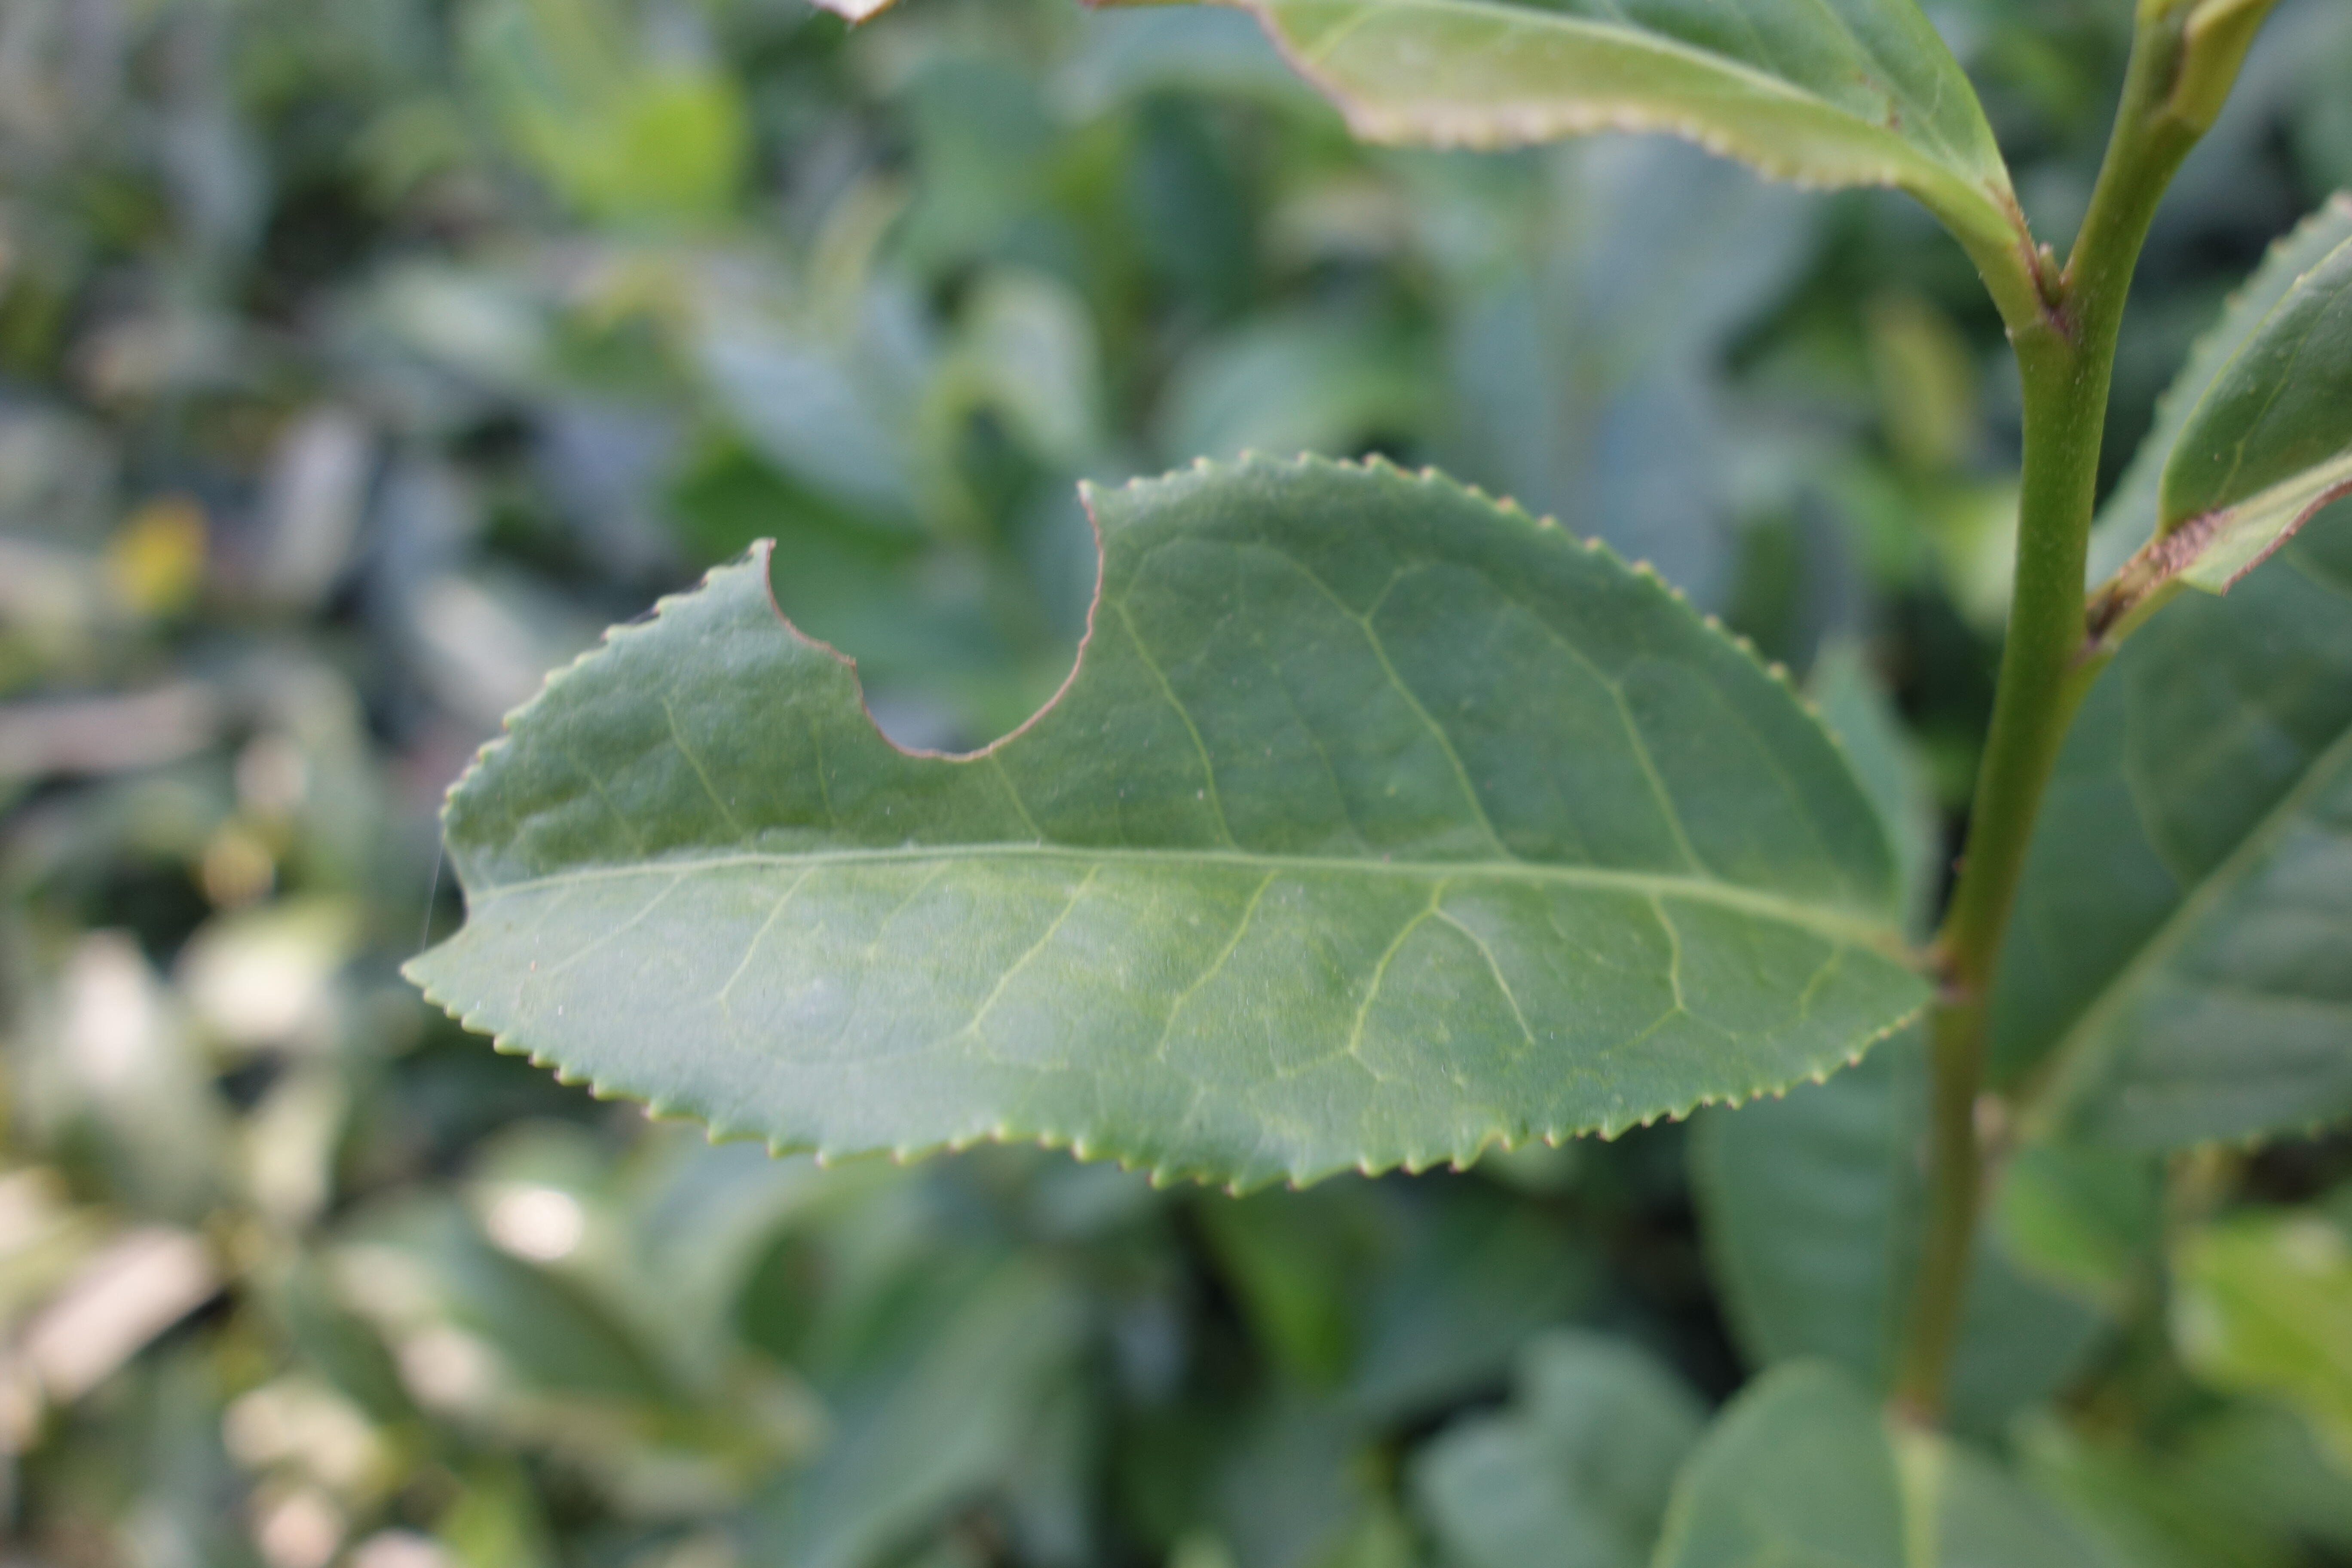chihuo_low: (395, 448, 1948, 1193)
